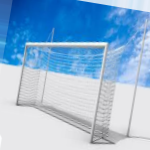goals: (14, 41, 125, 145)
